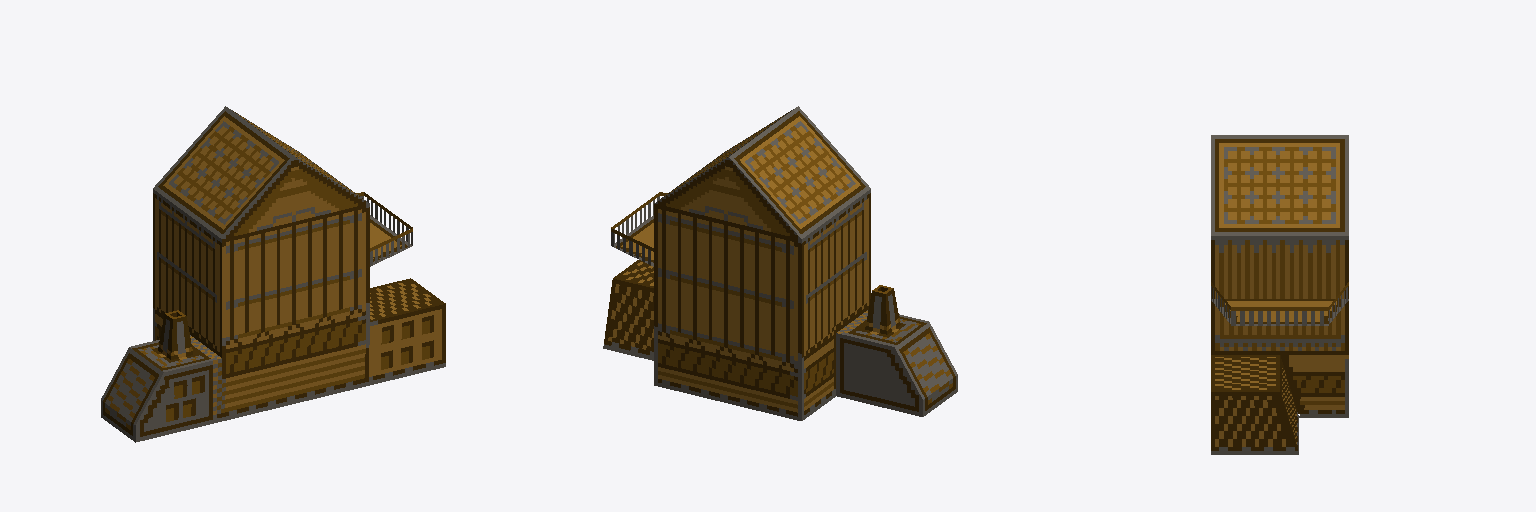
3 renders of one model, left to right at view 1: azimuth 30°, elevation 25°; view 2: azimuth 150°, elevation 25°; view 3: azimuth 270°, elevation 25°, orthographic.
Visible parts, largest first — view 1: town_hall_Cube; view 2: town_hall_Cube; view 3: town_hall_Cube.
Part boxes in pixels (x1,y1,x2,y2): town_hall_Cube: (101, 106, 445, 442); town_hall_Cube: (603, 106, 957, 420); town_hall_Cube: (1211, 135, 1348, 454).
Bounding box in the file's own units: 10.27 × 7.8 × 3.98.
Materials: 1 (1 with a texture image).